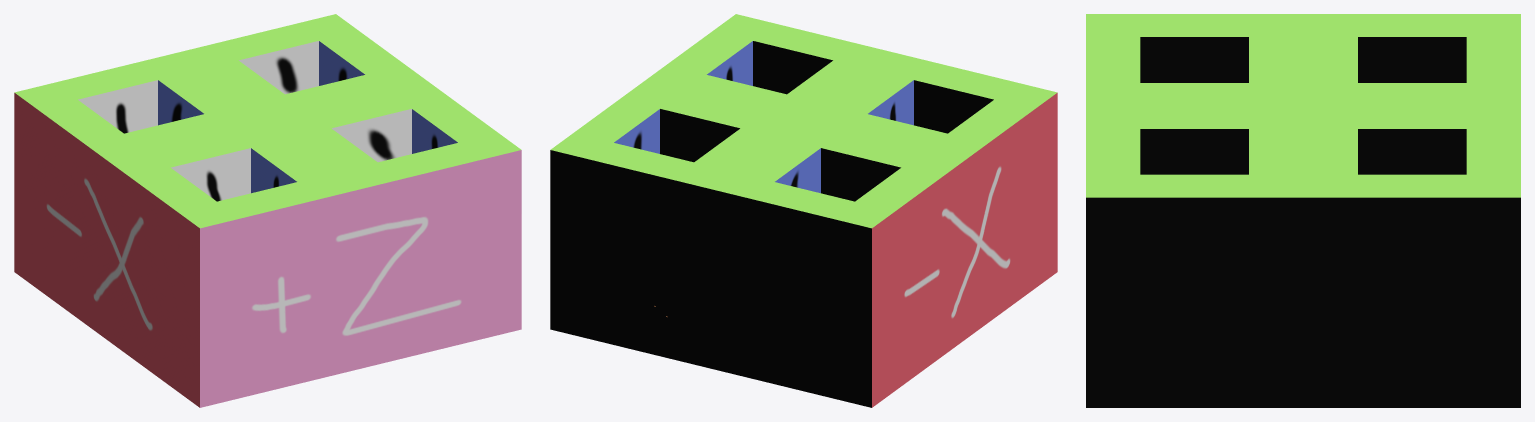
File: plate-type-spikes.obj
The picture shows the model from 3 angles, left to right: view 1: azimuth 30°, elevation 25°; view 2: azimuth 150°, elevation 25°; view 3: azimuth 270°, elevation 25°; orthographic projection. The views are drawn at different scales.
Visible parts, largest first — view 1: Cube; view 2: Cube; view 3: Cube.
Part boxes in pixels (x1,y1,x2,y2): Cube: (14, 14, 521, 407); Cube: (550, 14, 1057, 407); Cube: (1086, 14, 1520, 407).
Size of the model in its own units: 1.5 by 0.8 by 1.5.
